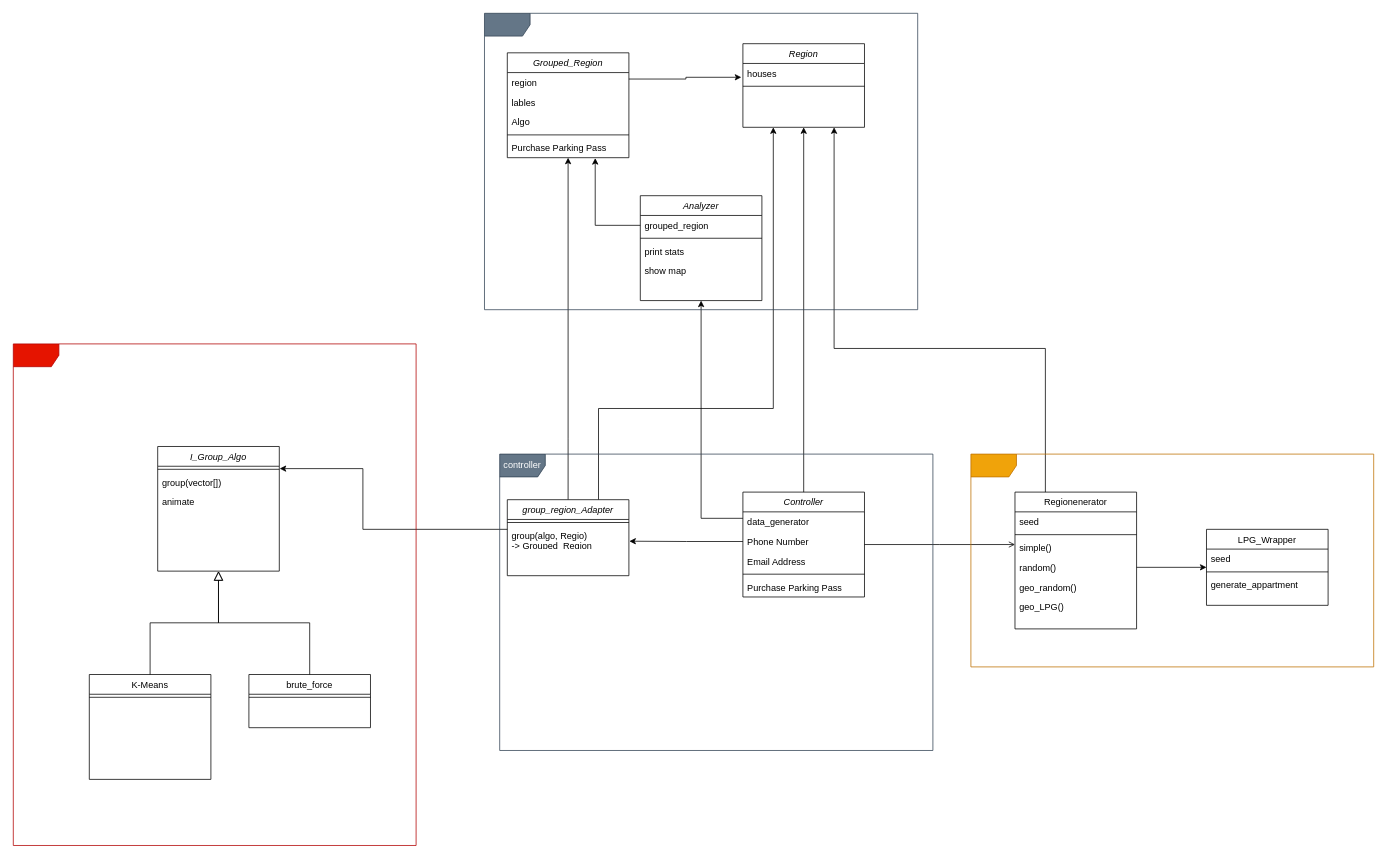
Image size: 1387x859. Some labels were removed from this diagram. The centre of each missing label's shape, as x and y in pixels:
data: the point at 701,161
data_gen: the point at 1172,560
grouping: the point at 214,594
